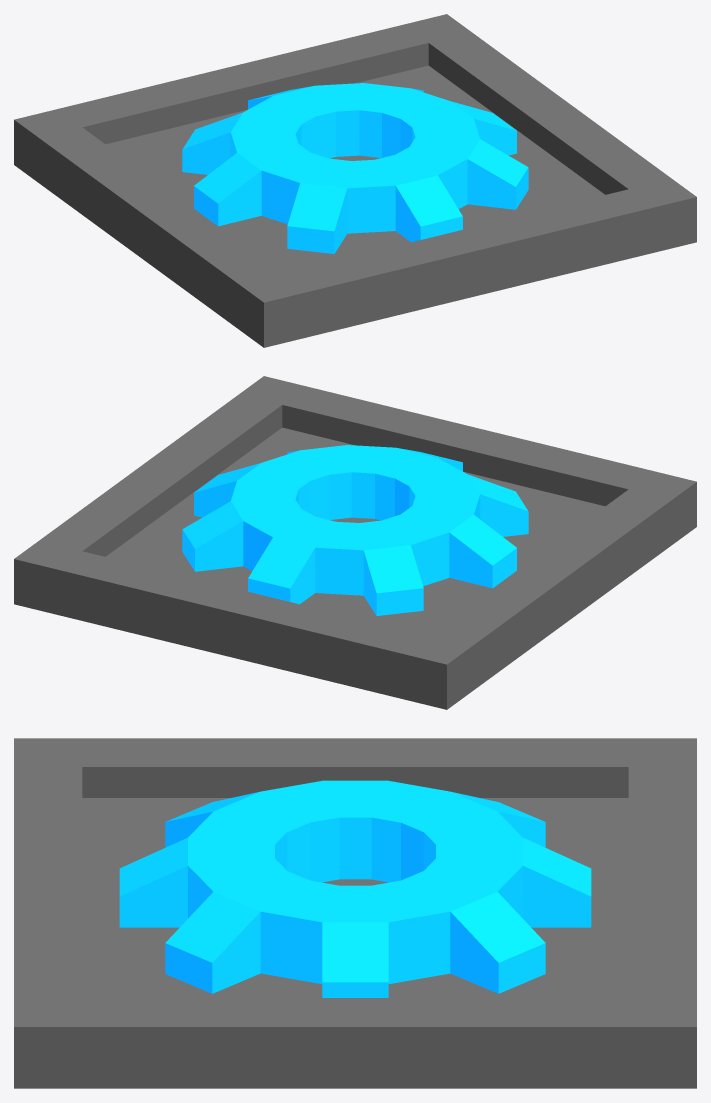
File: menuObjSettingsGearBox.glb
3 views of the same model, one above another, from view 1: azimuth 30°, elevation 25°; view 2: azimuth 150°, elevation 25°; view 3: azimuth 270°, elevation 25° (orthographic). The views are drawn at different scales.
Parts seen in each view (by area): view 1: Box, Gear; view 2: Box, Gear; view 3: Box, Gear.
Part boxes in pixels (x1=…): Box: x1=14, y1=14, x2=696, y2=347; Gear: x1=182, y1=83, x2=528, y2=253; Box: x1=14, y1=376, x2=696, y2=709; Gear: x1=182, y1=445, x2=528, y2=615; Box: x1=14, y1=738, x2=696, y2=1088; Gear: x1=119, y1=780, x2=591, y2=997.
Bounding box in the file's own units: 2 × 0.3 × 2.
